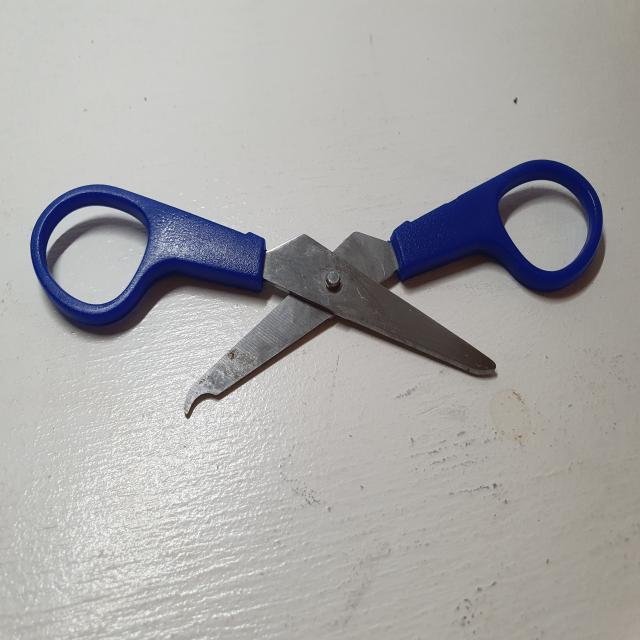scissor: (31, 151, 600, 422)
